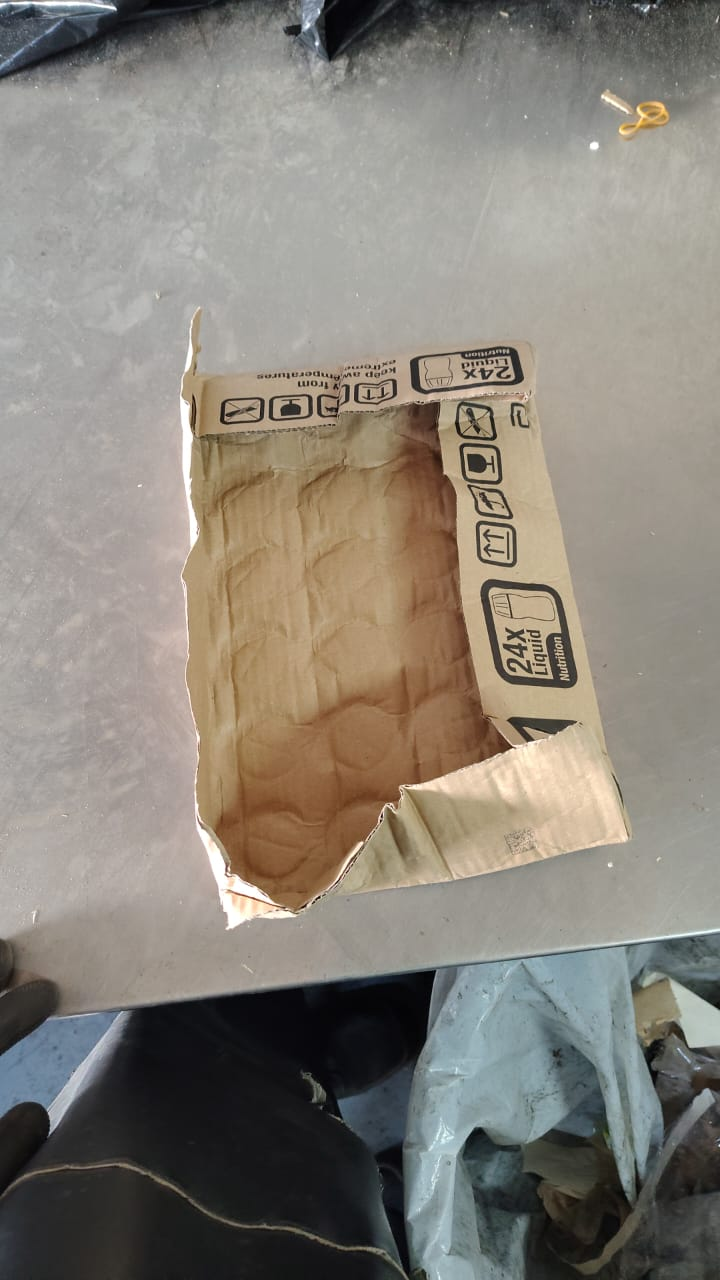Carton: (184, 341, 636, 927)
